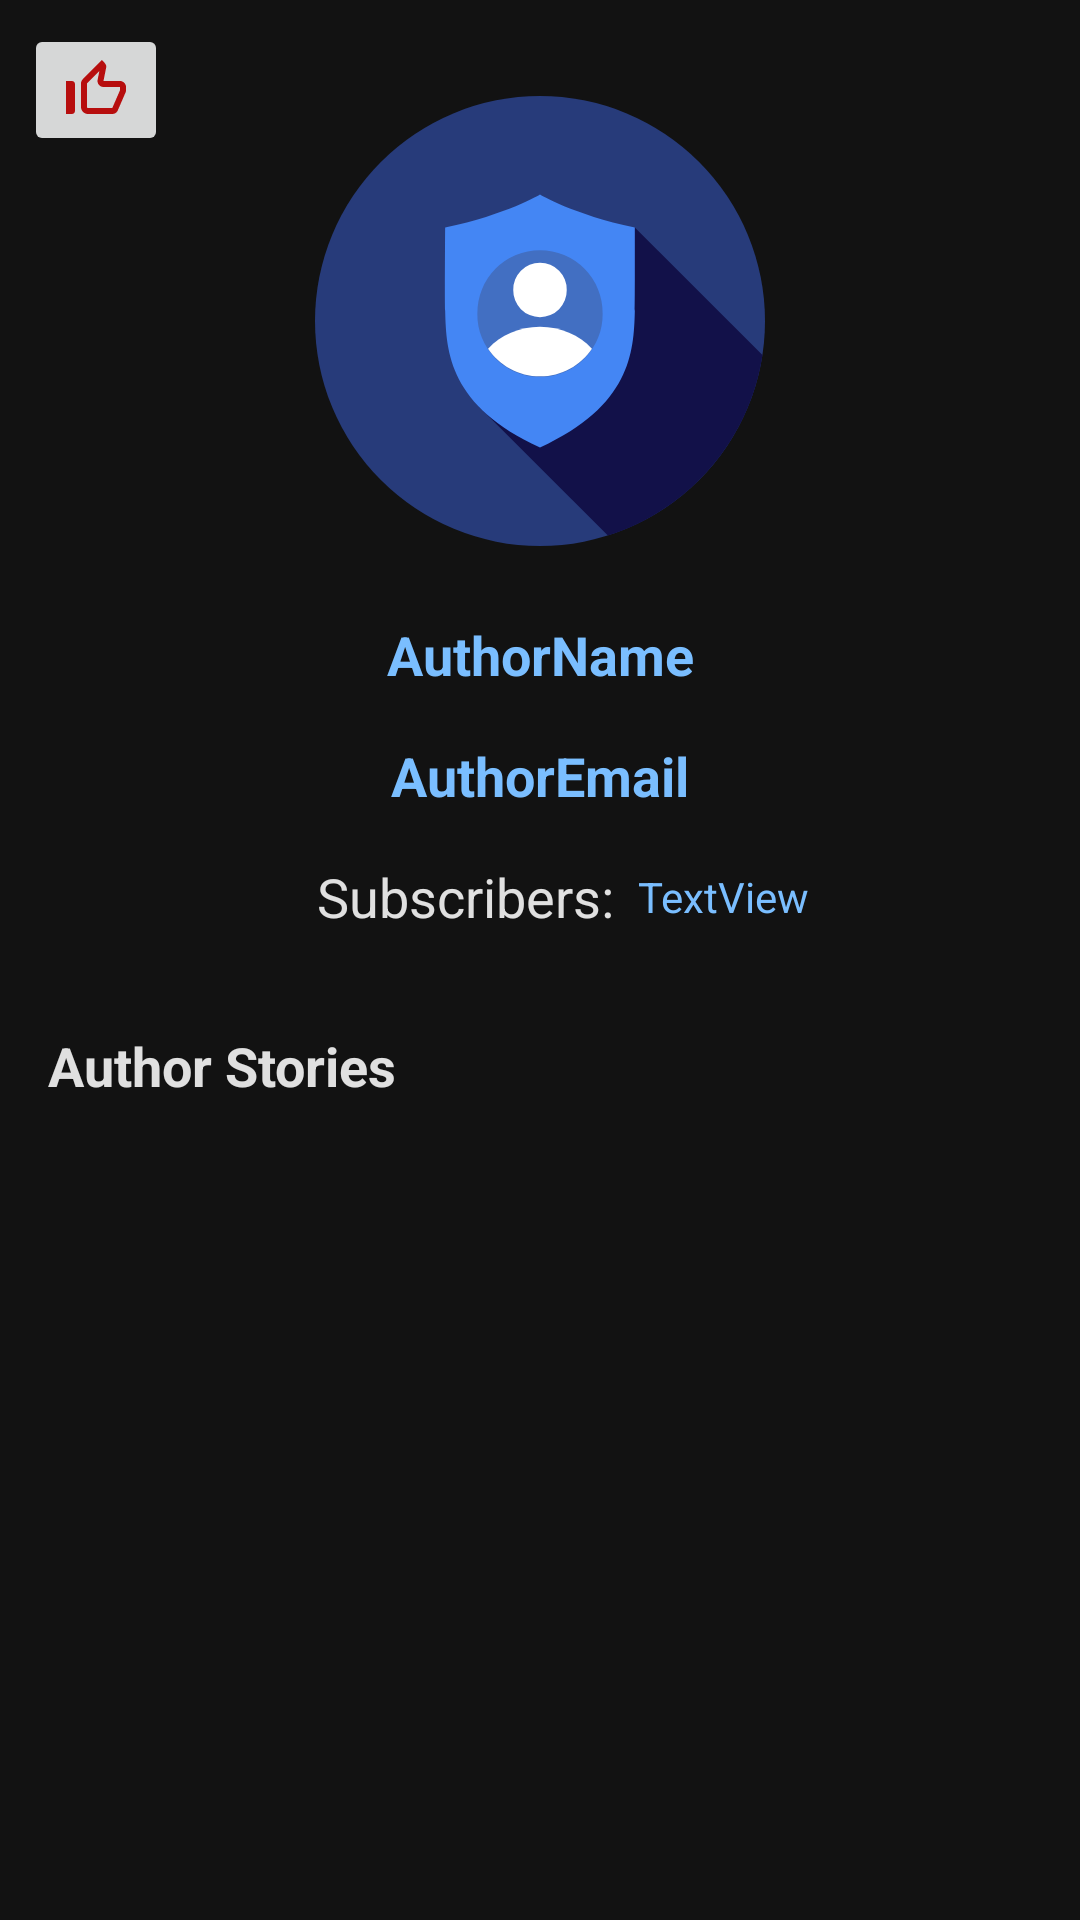

Icon bounding boxes for this 1080×1920 phone screenshot, format rect(x1, y1, x2, y2):
thumb up off: rect(36, 42, 156, 138)
